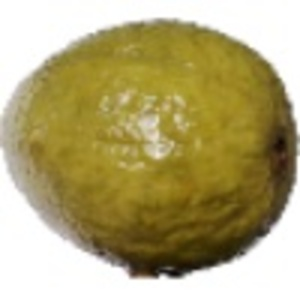goiaba: (4, 11, 297, 280)
